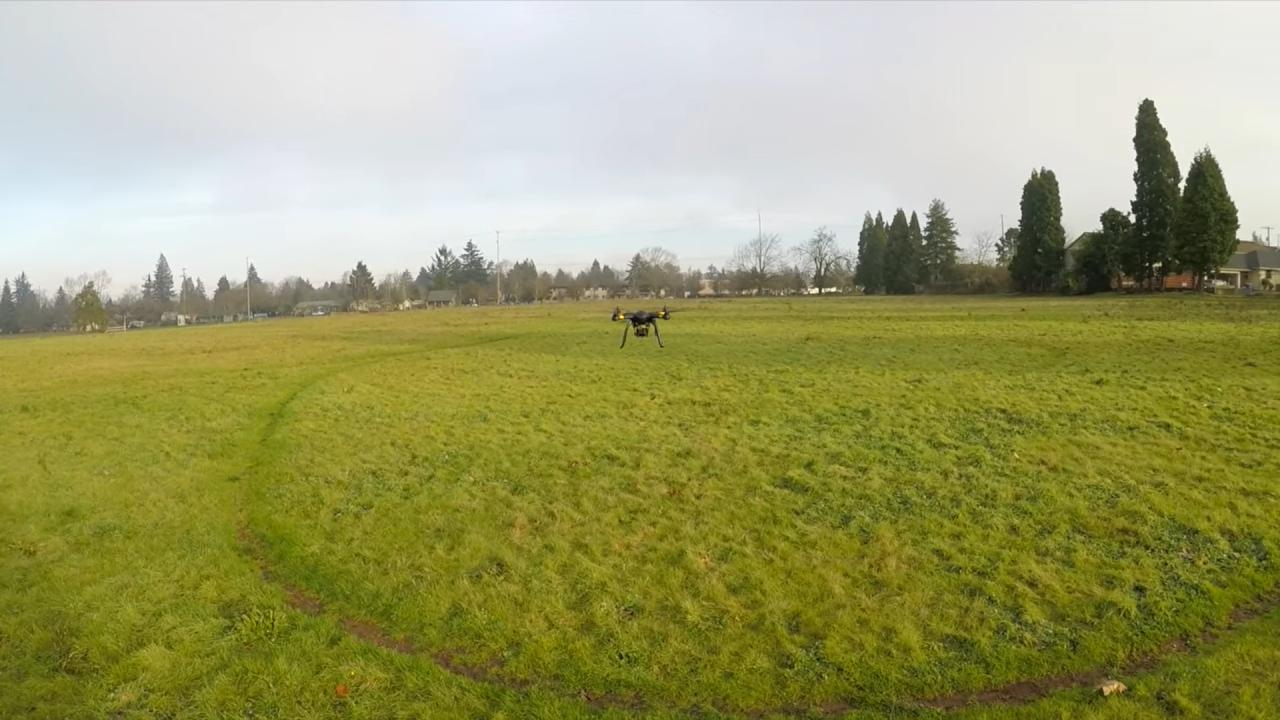Drone: (596, 296, 694, 359)
